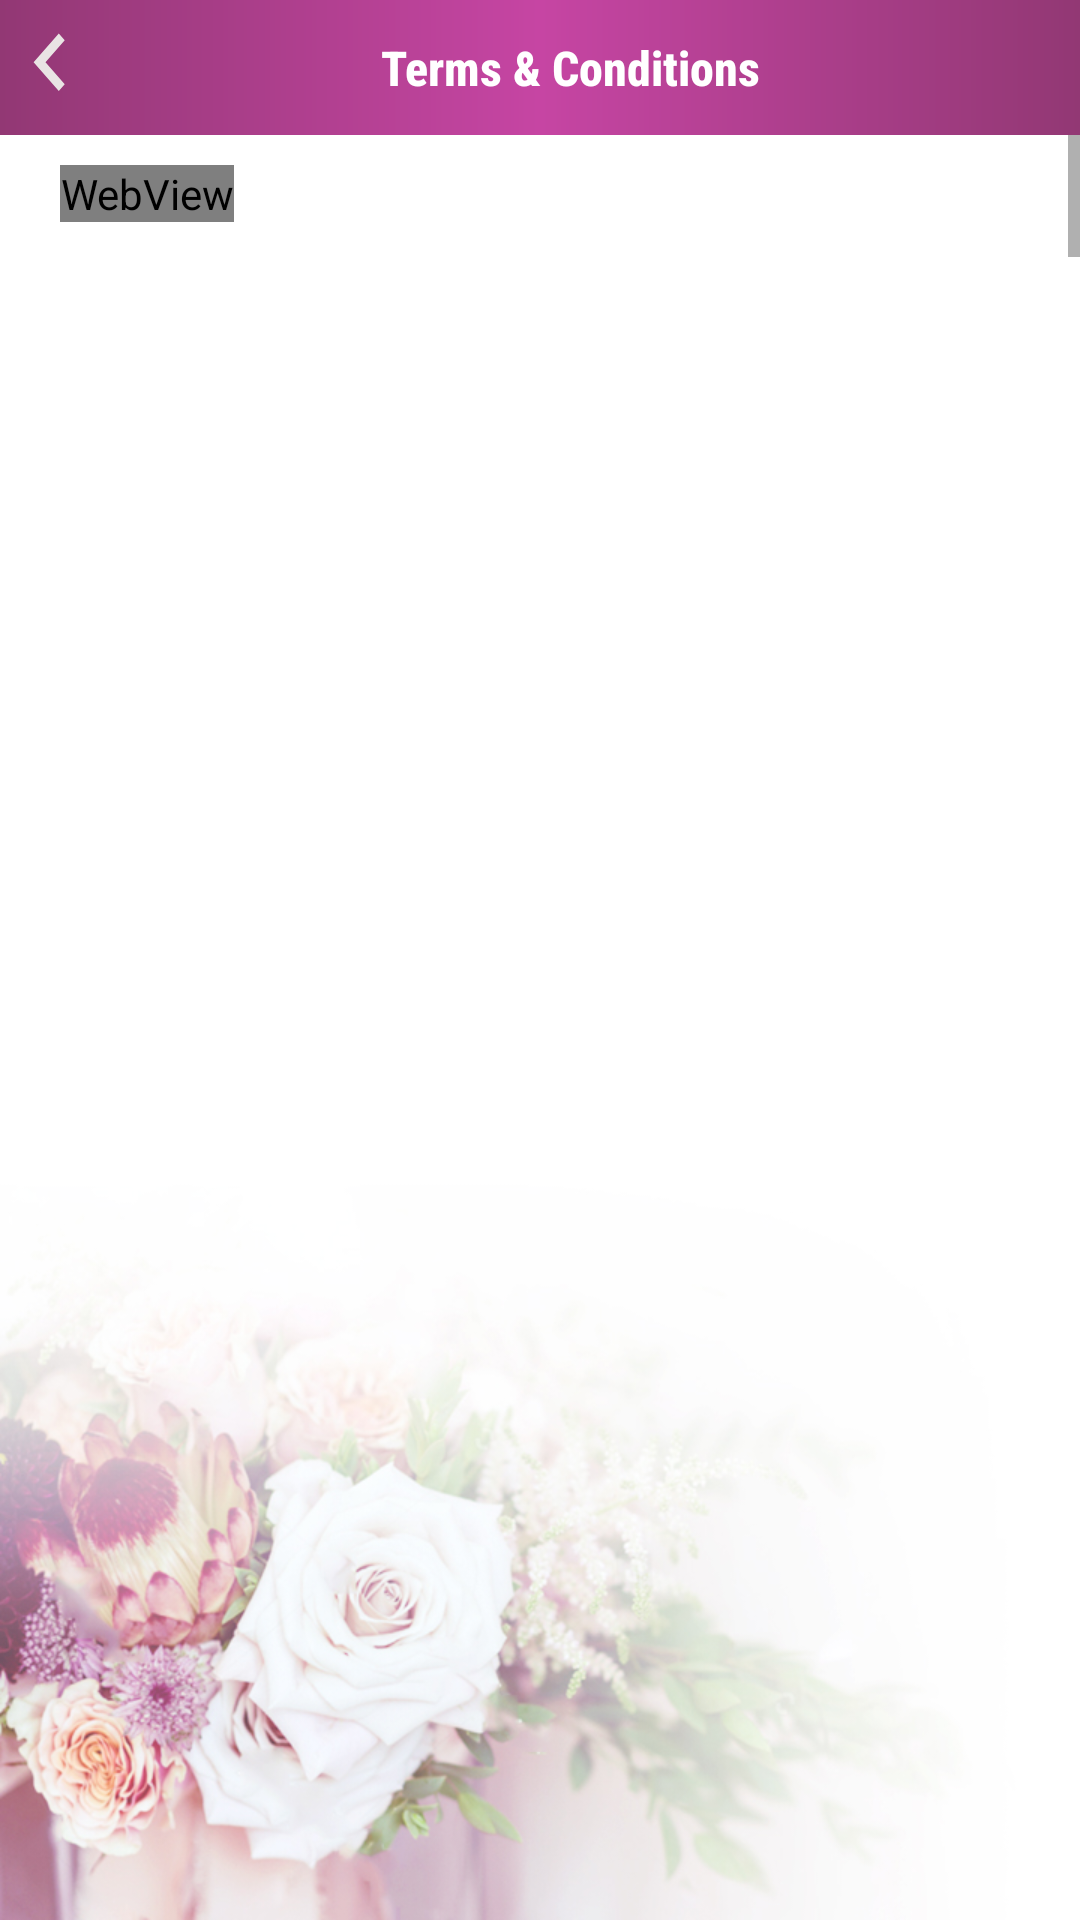

Icons on this 1080px x 1920px Android screen, each with the point to tap as (x=x, y=y):
arrow left: (x=49, y=62)
